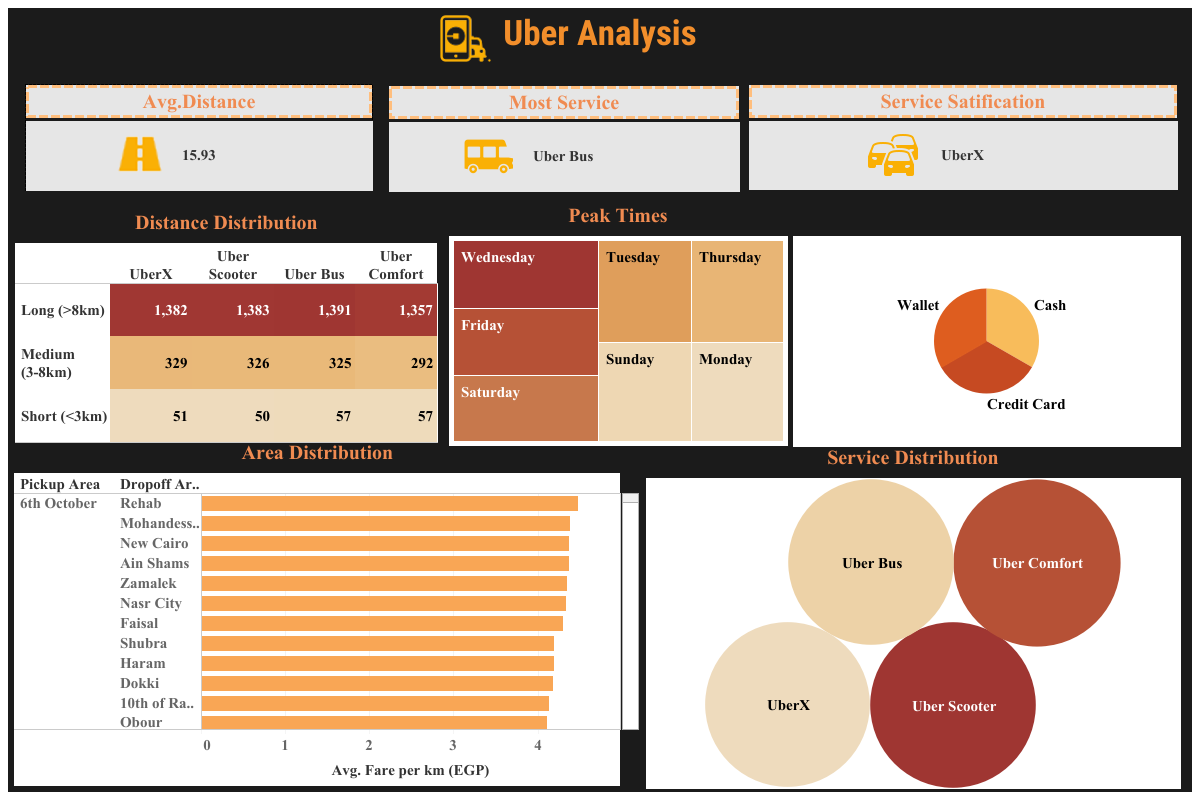

The page's visual inventory and layout, read from the dashboard file:
{"tool":"tableau","page":{"name":"Dashboard 1","canvas":[1200,800],"ordinal":0},"visuals":[{"type":"text","box":[8,8,1184,50]},{"type":"image","param":"Image/icons8-uber-taxi-50.png","box":[440,11,58,51]},{"type":"worksheet","title":"Avg.Distance","mark":"Automatic","box":[21,80,356,115]},{"type":"worksheet","title":"Service Satification","mark":"Automatic","box":[749,85,428,104]},{"type":"worksheet","title":"most service","mark":"Automatic","box":[389,86,350,105]},{"type":"image","param":"Image/icons8-road-24.png","box":[116,129,79,49]},{"type":"image","param":"Image/icons8-cars-50.png","box":[868,130,71,50]},{"type":"image","param":"Image/icons8-bus-50.png","box":[463,131,50,50]},{"type":"worksheet","title":"Peak Times","mark":"Automatic","box":[449,198,387,248]},{"type":"worksheet","title":"Distance Distribution","mark":"Square","rows":["Calculation_1055569757106371"],"cols":["Service Type"],"box":[15,205,423,238]},{"type":"worksheet","title":"payment","mark":"Pie","box":[793,236,387,210]},{"type":"worksheet","title":"Area Distribution","mark":"Automatic","rows":["Pickup Area","Dropoff Area"],"cols":["Fare per km (EGP)"],"box":[14,435,625,352]},{"type":"worksheet","title":"Service Distribution","mark":"Circle","box":[646,440,534,348]}]}

Visuals, with their boxes in screenshot pixels (x1, y1, x2, y2), scaled from the page's 1200x800 canvas onto the 1199x799 screenshot:
text: <box>8,8,1191,58</box>
image: <box>440,11,498,62</box>
"Avg.Distance" worksheet: <box>21,80,377,195</box>
"Service Satification" worksheet: <box>748,85,1176,189</box>
"most service" worksheet: <box>389,86,738,191</box>
image: <box>116,129,195,178</box>
image: <box>867,130,938,180</box>
image: <box>463,131,513,181</box>
"Peak Times" worksheet: <box>449,198,835,445</box>
"Distance Distribution" worksheet (Square marks): <box>15,205,438,442</box>
"payment" worksheet (Pie marks): <box>792,236,1179,445</box>
"Area Distribution" worksheet: <box>14,434,638,786</box>
"Service Distribution" worksheet (Circle marks): <box>645,439,1179,787</box>
